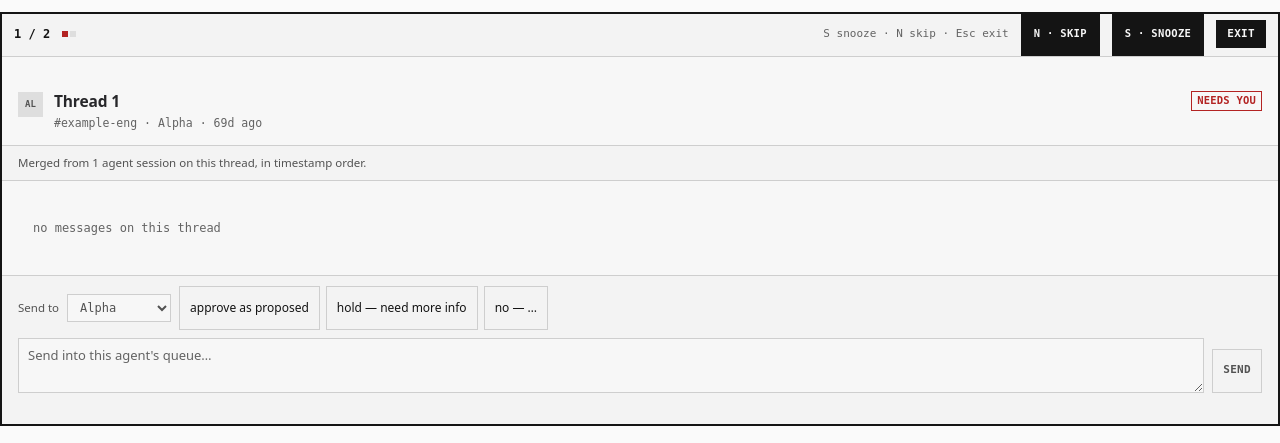
a refused verdict is explained in the operator’s words › says the same thing the queue and the composer say about the same refusal
This screenshot has width=1280, height=443.
Click the button "S · snooze" at (1158, 34), box [1112,12,1204,56]
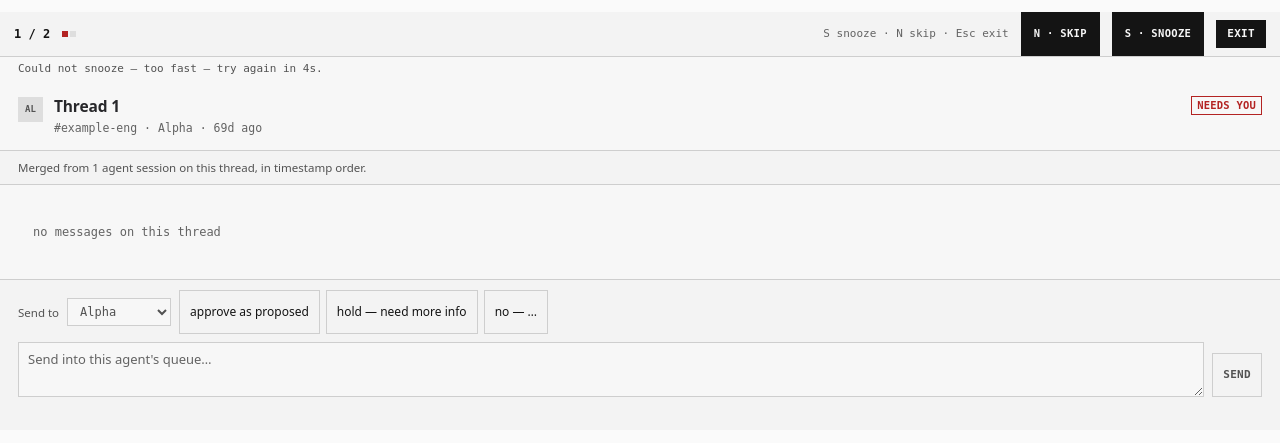
Expected: the text "1 / 2" is shown, [14,25,50,43]
Expected: the text "Could not snooze — too fast — try again in 4s." is shown, [18,62,323,75]
